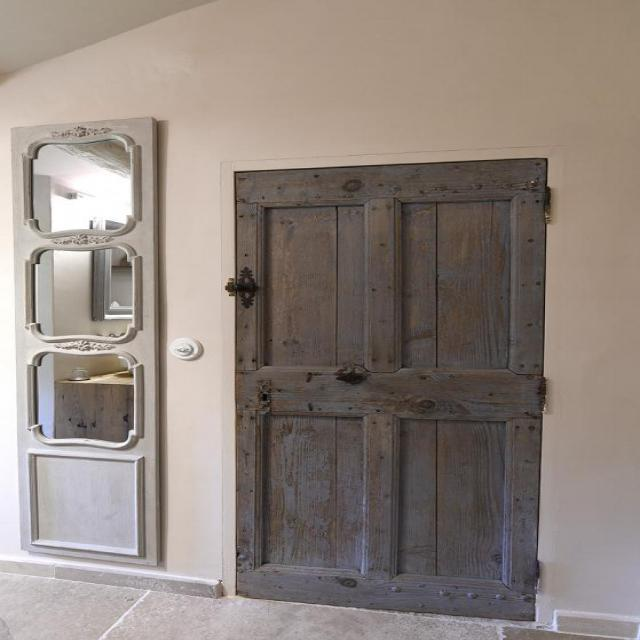close: (204, 149, 562, 546)
